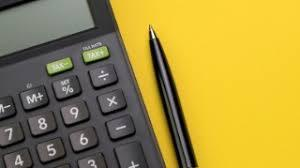Calculator: (0, 0, 171, 168)
